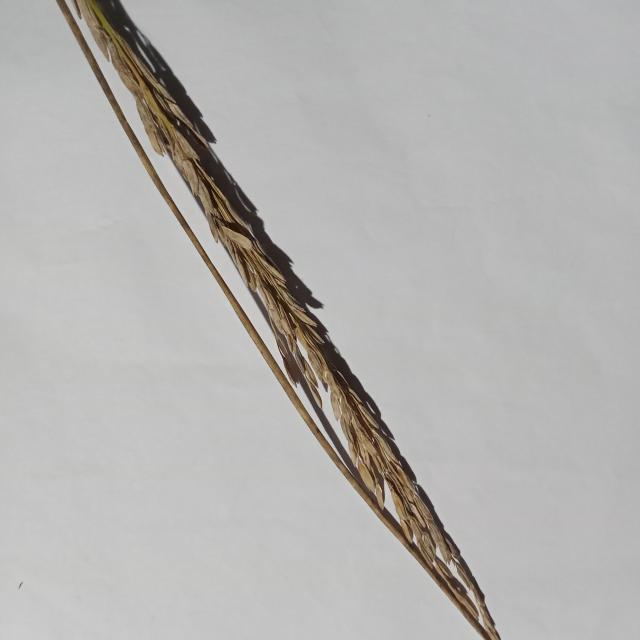Neck_Blast: (52, 2, 510, 640)
